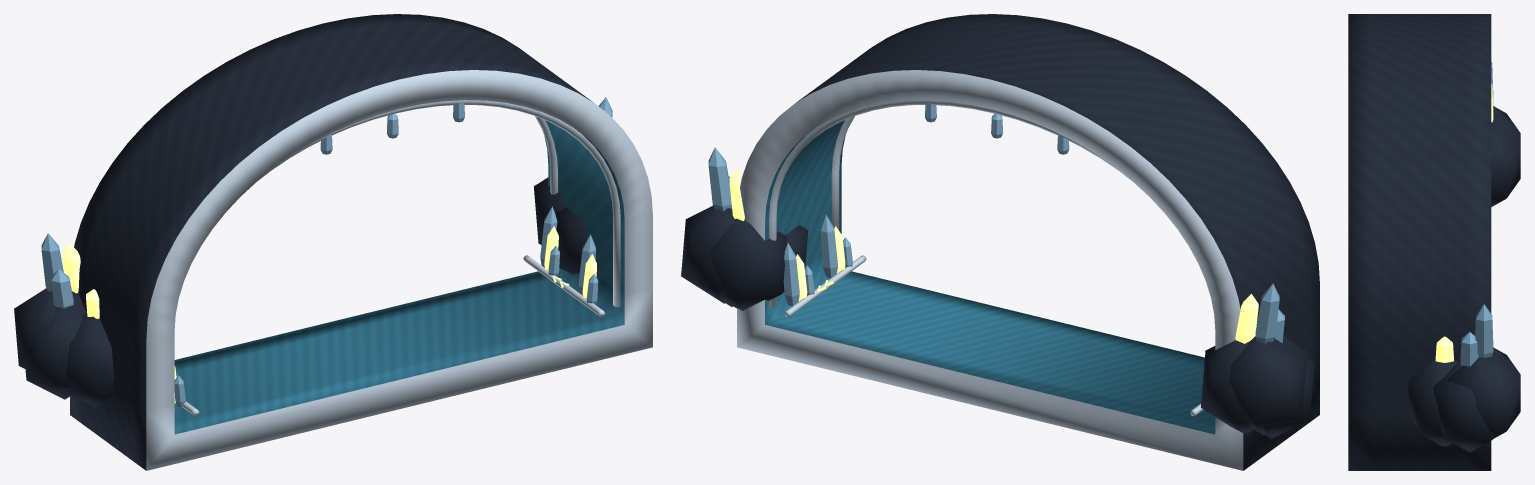
Rendered from portal_exit.glb.
3 renders of one model, left to right at view 1: azimuth 30°, elevation 25°; view 2: azimuth 150°, elevation 25°; view 3: azimuth 270°, elevation 25°, orthographic. The views are drawn at different scales.
Parts seen in each view (by area): view 1: TunnelGeometry; view 2: TunnelGeometry; view 3: TunnelGeometry.
Boxes of the visible parts, <box> form: TunnelGeometry: <box>14,14,652,470</box>; TunnelGeometry: <box>681,14,1319,470</box>; TunnelGeometry: <box>1348,14,1520,470</box>.
Size of the model in its own units: 18.63 by 9.52 by 4.82.
5 materials, 2 textured.
